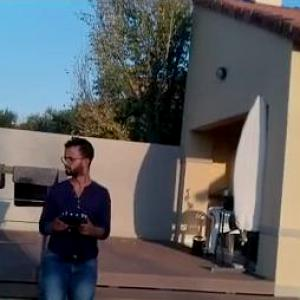follow: (34, 134, 120, 298)
